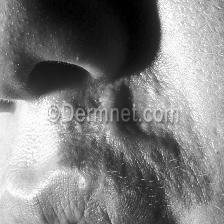Benign Marking or Mole: (101, 122, 182, 177)
